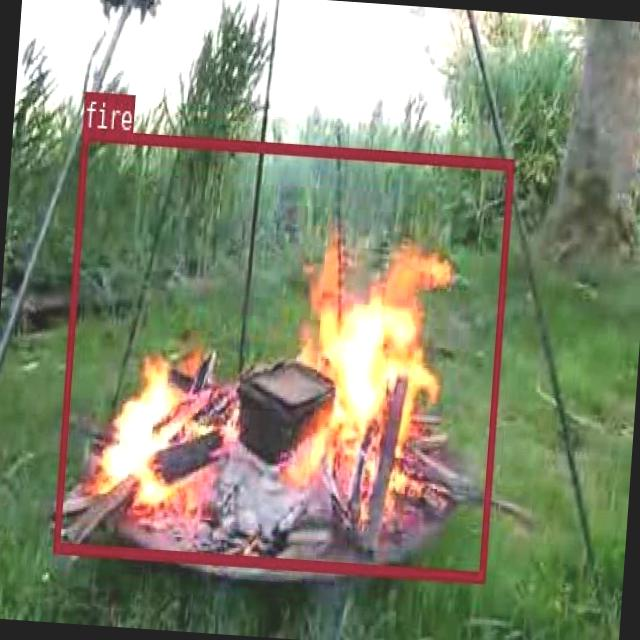fire: (52, 129, 512, 580)
